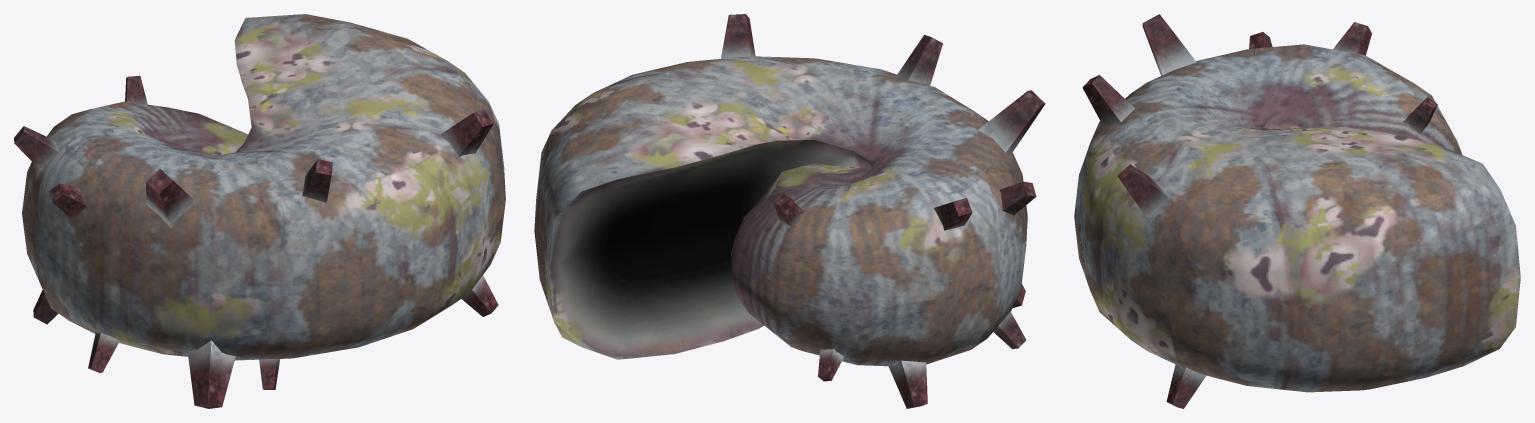
3 views of the same model, side by side, from view 1: azimuth 30°, elevation 25°; view 2: azimuth 150°, elevation 25°; view 3: azimuth 270°, elevation 25° (orthographic).
Visible parts, largest first — view 1: pCube16_1__Shell01; view 2: pCube16_1__Shell01; view 3: pCube16_1__Shell01.
Boxes of the visible parts, x1,y1,x2,y2 form: pCube16_1__Shell01: (14, 14, 505, 408); pCube16_1__Shell01: (534, 14, 1045, 408); pCube16_1__Shell01: (1074, 14, 1520, 408).
Bounding box in the file's own units: 1.14 × 0.577 × 0.9855.
Materials: 1 (1 with a texture image).
